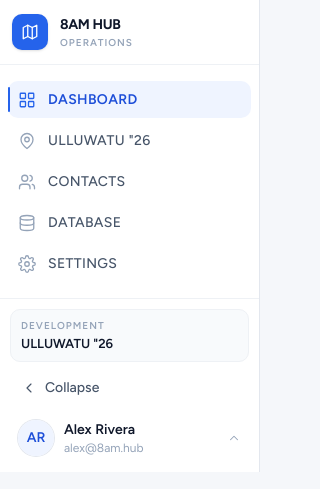
it: Sidebar — Phase 6 polish › collapse control toggles and exposes accessible labels
Click the button named "Collapse sidebar".
click(130, 388)  # box [10, 370, 249, 406]
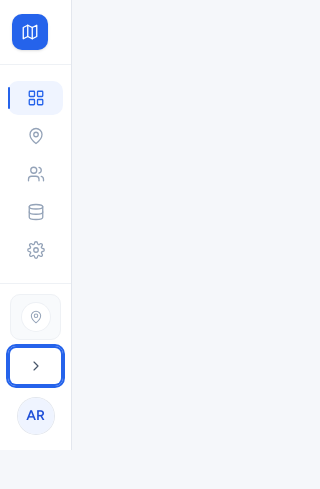
Result: the button named "Expand sidebar" is shown
Click the button named "Expand sidebar".
click(36, 366)  # box [10, 348, 61, 384]
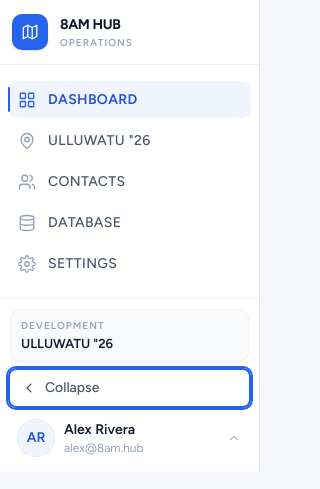
Result: the button named "Collapse sidebar" is shown at [10, 370, 249, 406]
